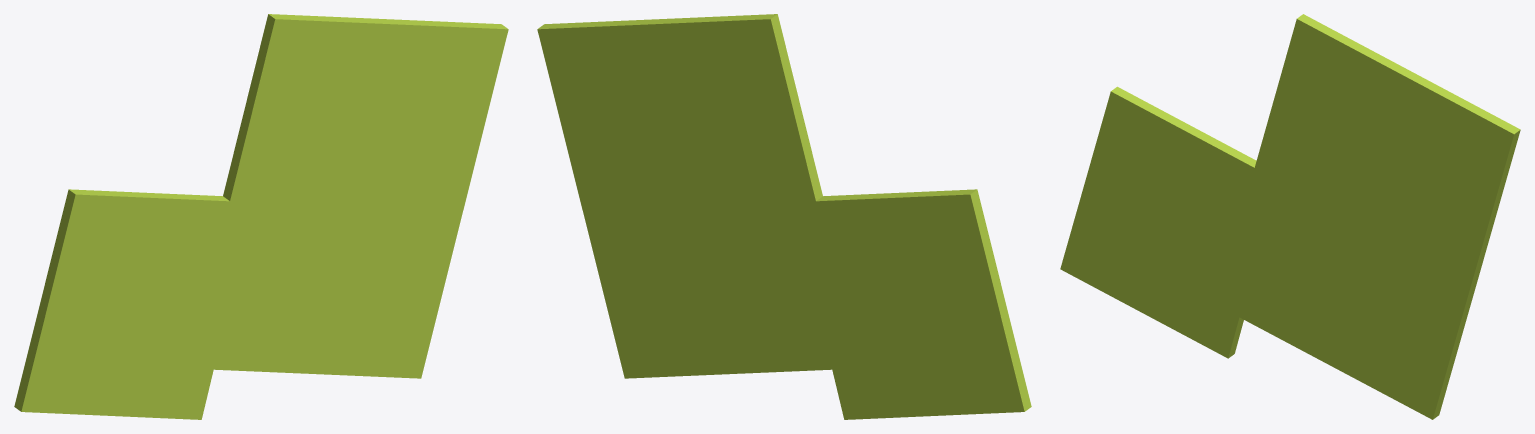
3 views of the same model, side by side, from view 1: azimuth 30°, elevation 25°; view 2: azimuth 150°, elevation 25°; view 3: azimuth 330°, elevation 25° (orthographic). The views are drawn at different scales.
Parts seen in each view (by area): view 1: osm-way27917482-F3; view 2: osm-way27917482-F3; view 3: osm-way27917482-F3.
Part boxes in pixels (x1,y1,x2,y2): osm-way27917482-F3: (14,14,508,419); osm-way27917482-F3: (537,14,1031,419); osm-way27917482-F3: (1060,14,1520,419).
Bounding box in the file's own units: 6 × 4.65 × 0.15.
